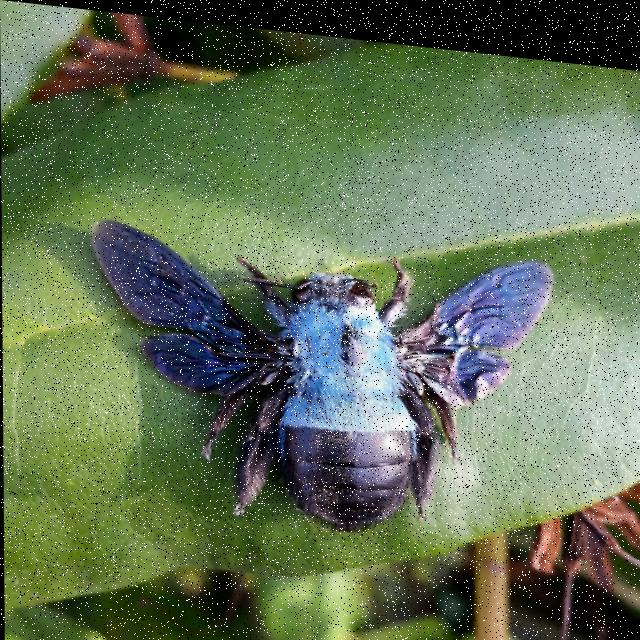Xylocopa: (89, 196, 562, 555)
